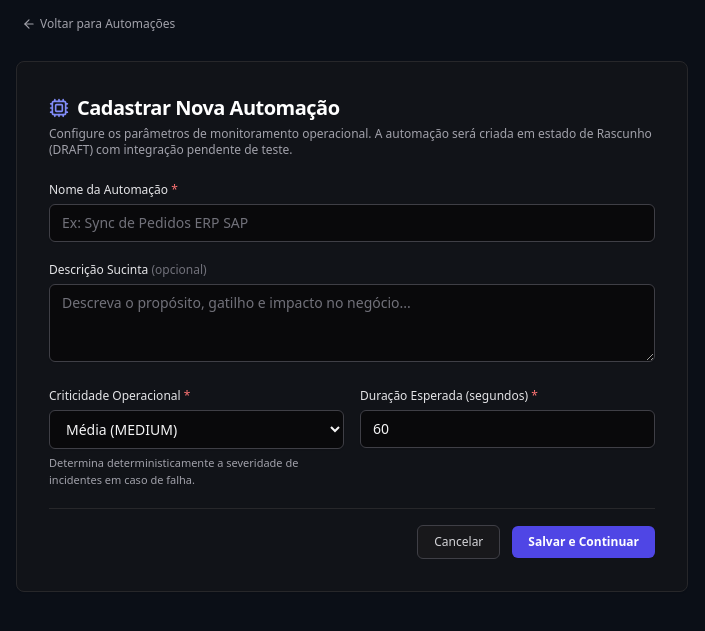
Test case: NewAutomationPage › should show client-side validation errors when required fields are empty or invalid
The width and height of the screenshot is (705, 631).
Note: Clear duration input
Type "0" into the number field with test id "automation-duration-input" at point(508, 429), box [360, 410, 655, 448]
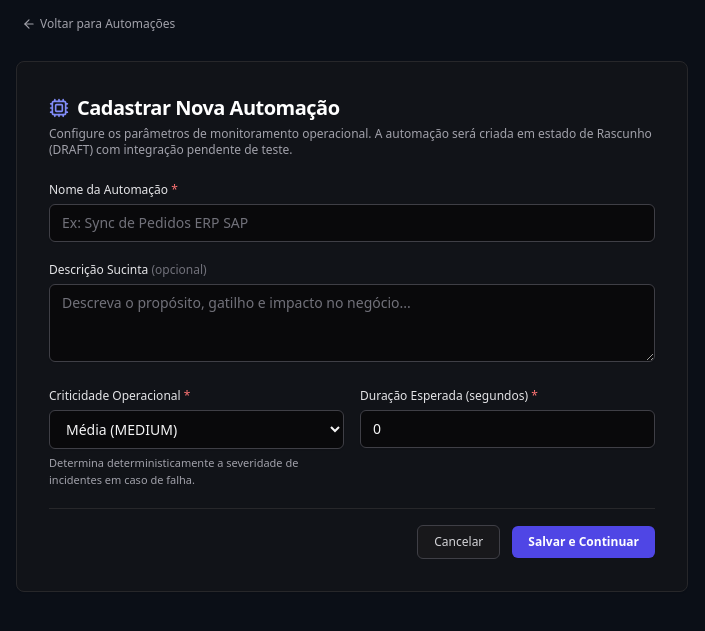
Click the button with test id "submit-automation-button" at point(584, 542), box [512, 526, 655, 558]
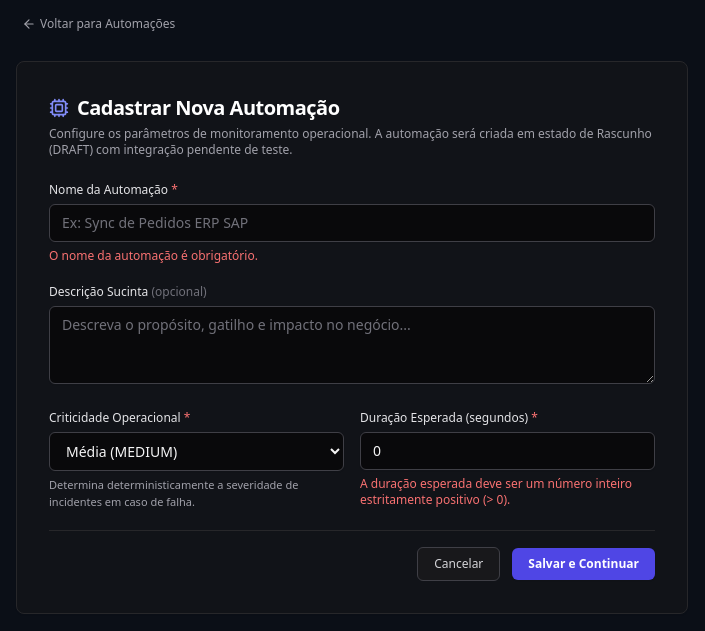
Now the text "O nome da automação é obrigatório." is shown, box [49, 247, 258, 264]
Now the text "A duração esperada deve ser um número inteiro estritamente positivo (> 0)." is shown, box [360, 476, 655, 508]
